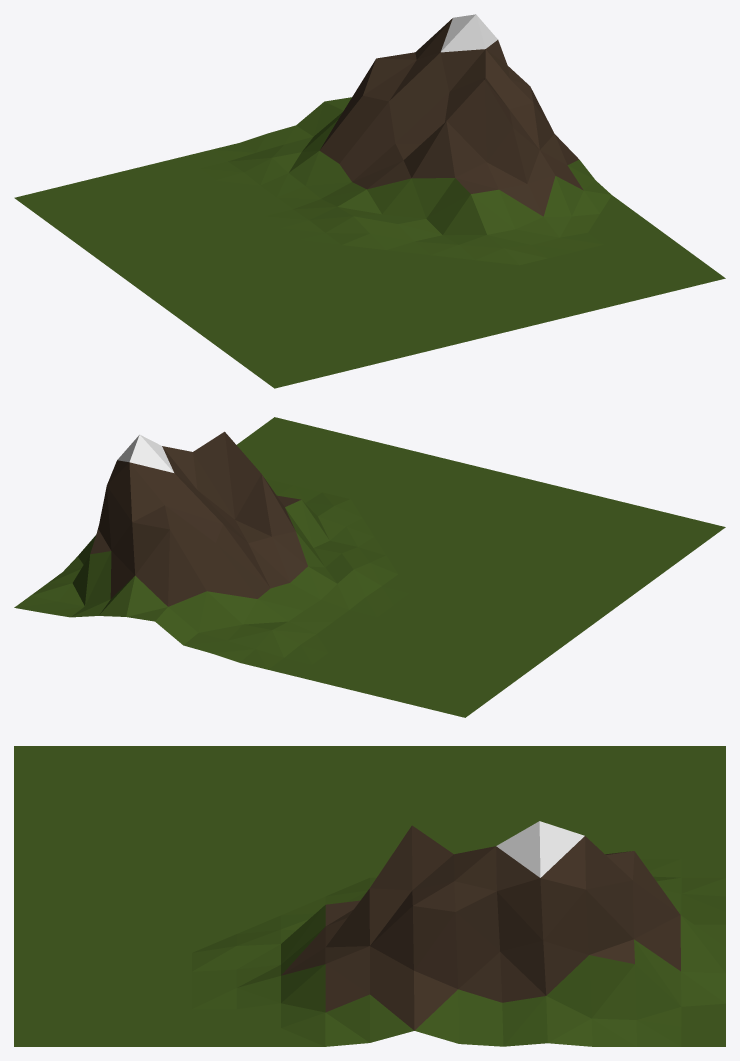
File: hill.glb
3 views of the same model, one above another, from view 1: azimuth 30°, elevation 25°; view 2: azimuth 150°, elevation 25°; view 3: azimuth 270°, elevation 25° (orthographic). The views are drawn at different scales.
Visible parts, largest first — view 1: Plane; view 2: Plane; view 3: Plane.
Part boxes in pixels (box(x1,y1,x2,y2)): Plane: box(14, 14, 725, 388); Plane: box(14, 417, 725, 717); Plane: box(14, 746, 725, 1046).
Size of the model in its own units: 28.14 by 8.15 by 28.04.
